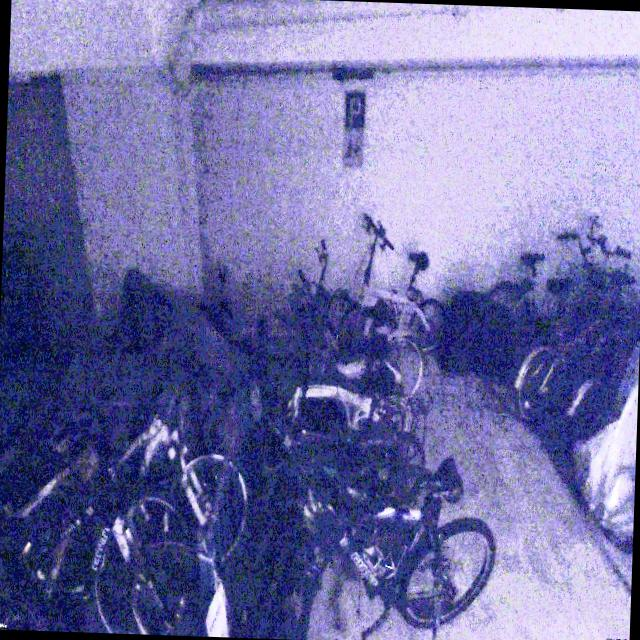bike: (22, 377, 252, 598), (269, 445, 497, 640), (511, 231, 640, 421), (289, 236, 430, 395), (478, 225, 614, 372), (332, 211, 452, 365)
